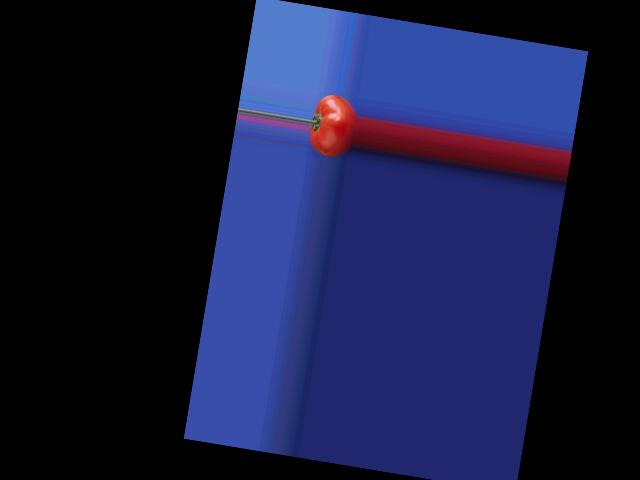tomato: (305, 92, 360, 160)
